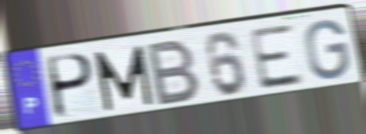6: (204, 30, 248, 100)
B: (146, 37, 203, 109)
E: (246, 22, 306, 93)
G: (303, 17, 352, 82)
M: (91, 43, 156, 114)
P: (47, 51, 97, 121)
